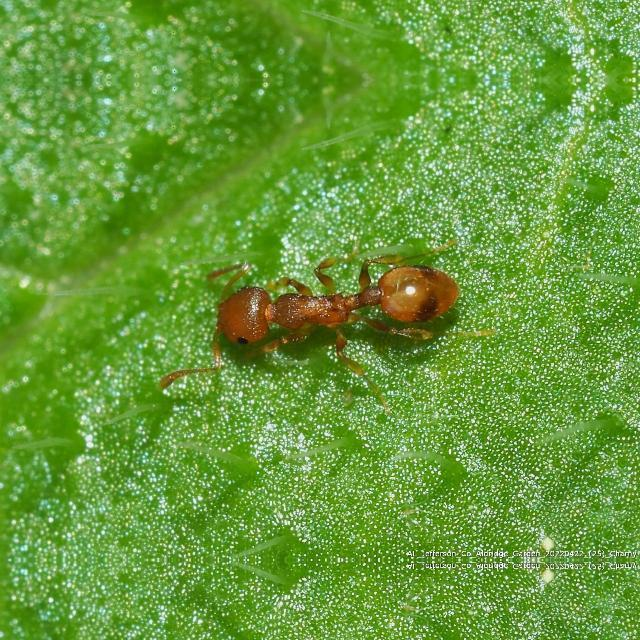Temnothorax: (200, 238, 474, 366)
